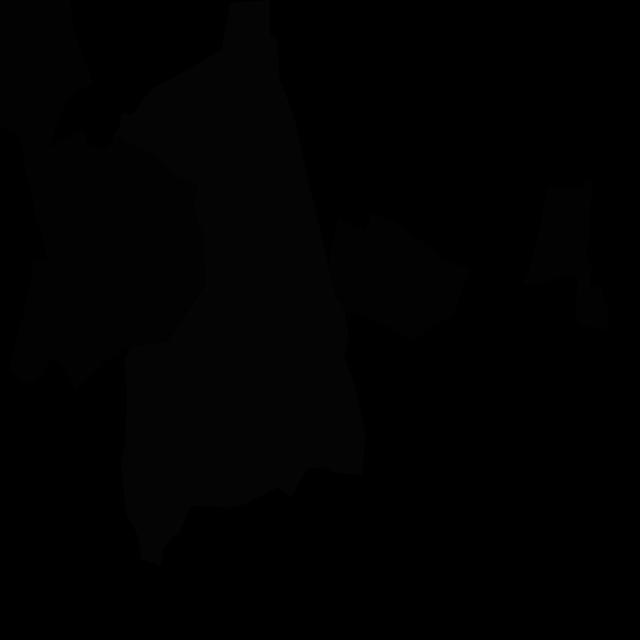cardboard: (8, 129, 205, 392), (328, 212, 470, 343), (0, 0, 93, 151), (522, 180, 610, 331)
soft_plastic: (112, 0, 366, 566)
